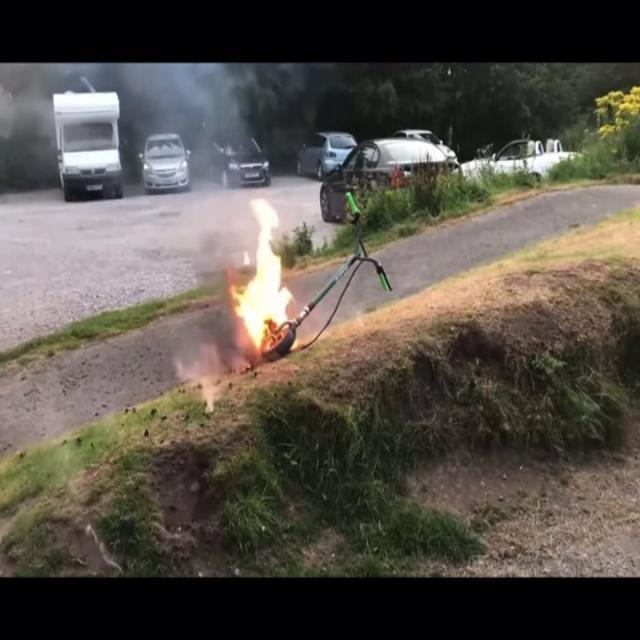Fire: (228, 194, 295, 347)
Smoke: (124, 68, 264, 195)
